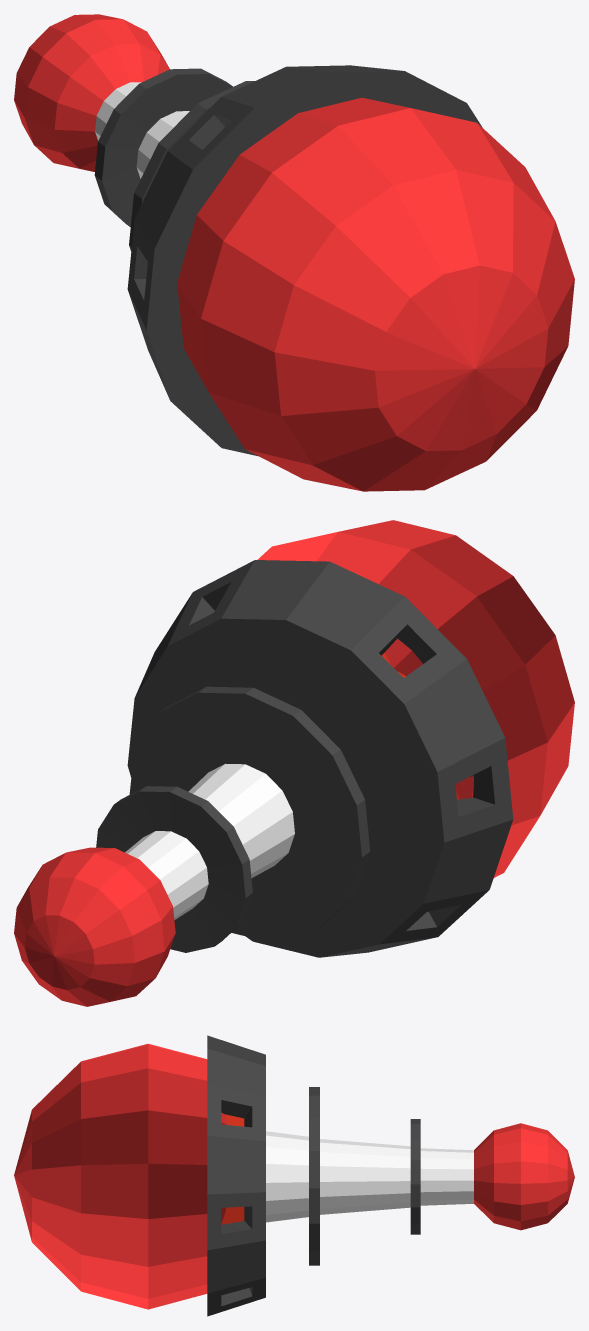
File: Laser.fbx
The picture shows the model from 3 angles, top to bottom: view 1: azimuth 30°, elevation 25°; view 2: azimuth 150°, elevation 25°; view 3: azimuth 270°, elevation 25°; orthographic projection. The views are drawn at different scales.
Visible parts, largest first — view 1: Main; view 2: Main; view 3: Main.
Boxes of the visible parts, x1=… form: Main: x1=14, y1=14, x2=574, y2=491; Main: x1=14, y1=520, x2=574, y2=1006; Main: x1=14, y1=1035, x2=574, y2=1316.
Bounding box in the file's own units: 50.63 × 50.35 × 101.
